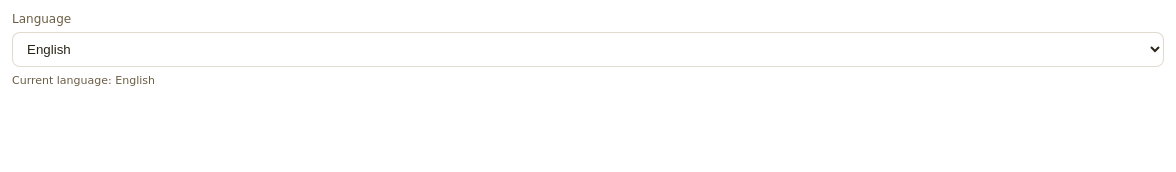
Scenario: never announces a failed preference as saved and can retry after the settings view remounts
Select "中文" in the dropdown labelled "Language" at (588, 50), box [12,32,1164,67]
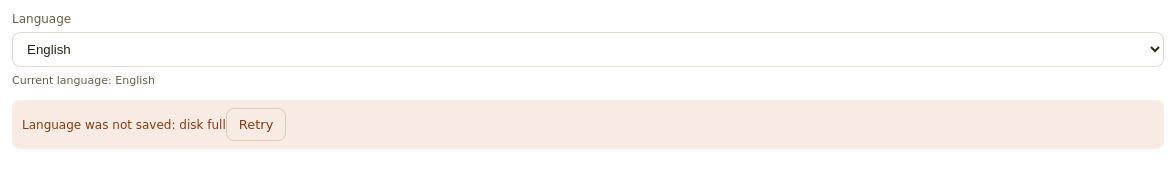
expect the message "Language was not saved: disk full Retry" is shown: met, box [12,100,1164,149]
Click the button "Retry".
click(256, 124)  # box [226,108,286,141]
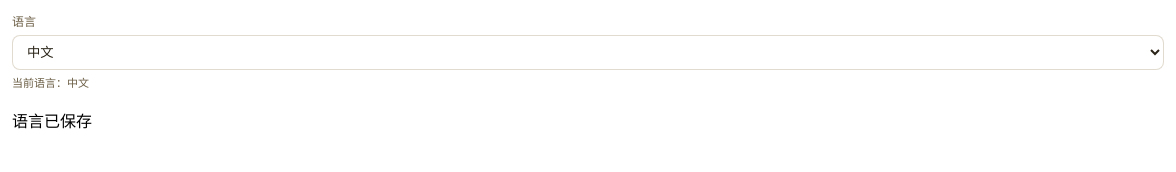
expect the dropdown labelled "语言" shows "中文": met, box [12,35,1164,70]
expect the message "语言已保存" is shown: met, box [12,112,92,131]
expect the message "Language was not saved: disk full Retry" is gone: met
